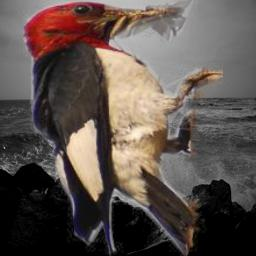Woodpecker: (23, 0, 223, 256)
